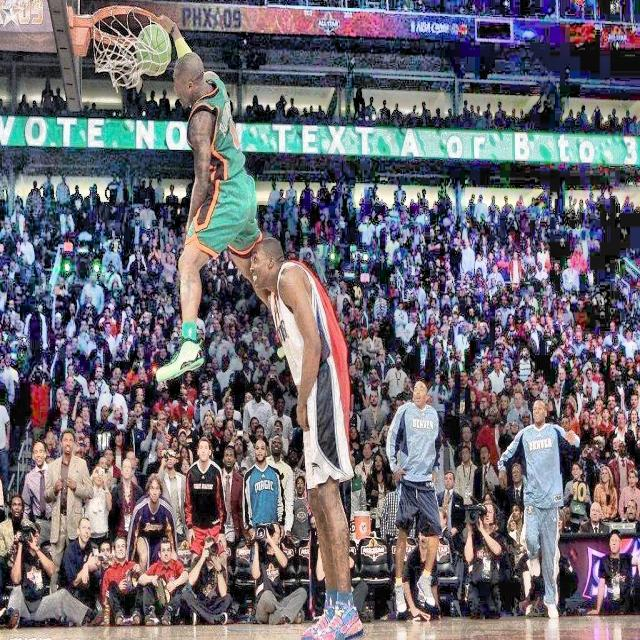rim: (92, 3, 160, 85)
